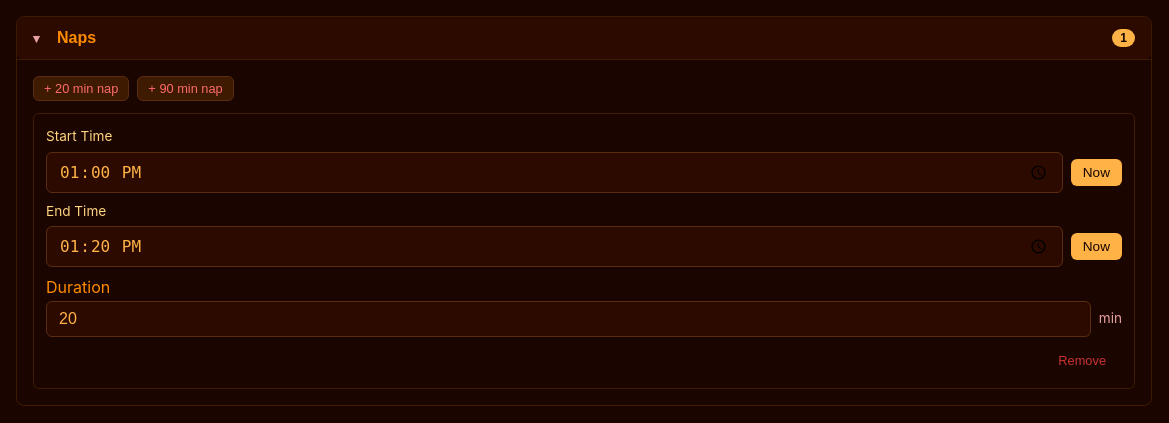
Test: NapSection › moving start time shifts end when duration is set
This screenshot has width=1169, height=423.
Replace the text in the time field below "Start Time" with "15:00" at (554, 172), box x1=46 y1=152 x2=1063 y2=193
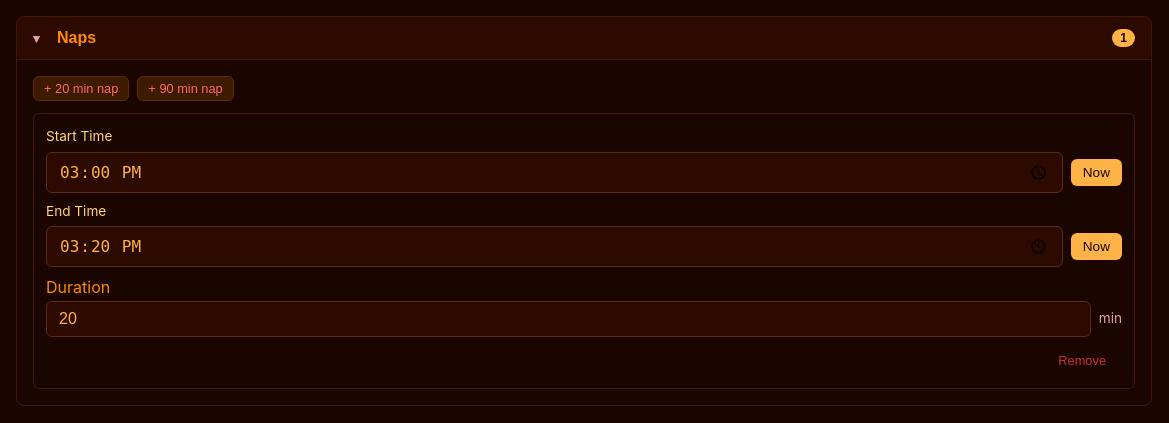
expect the number field holds "20": met, box x1=46 y1=301 x2=1091 y2=337
expect the time field below "End Time" holds "15:20": met, box x1=46 y1=226 x2=1063 y2=267
